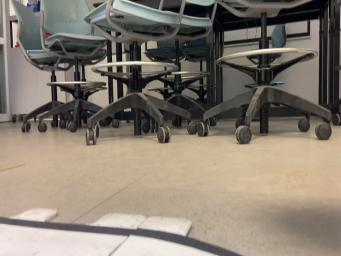street: (0, 217, 239, 256), (0, 217, 239, 256), (0, 217, 239, 256), (0, 217, 239, 256), (0, 217, 239, 256), (0, 217, 239, 256)
